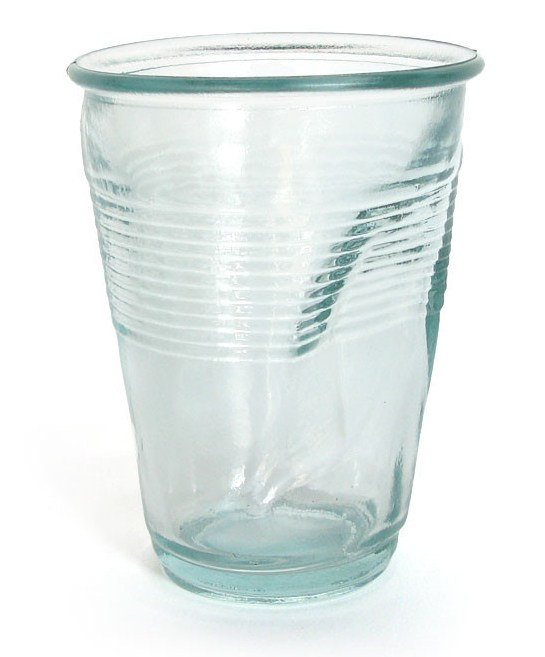plastic_glass: (41, 12, 475, 636)
